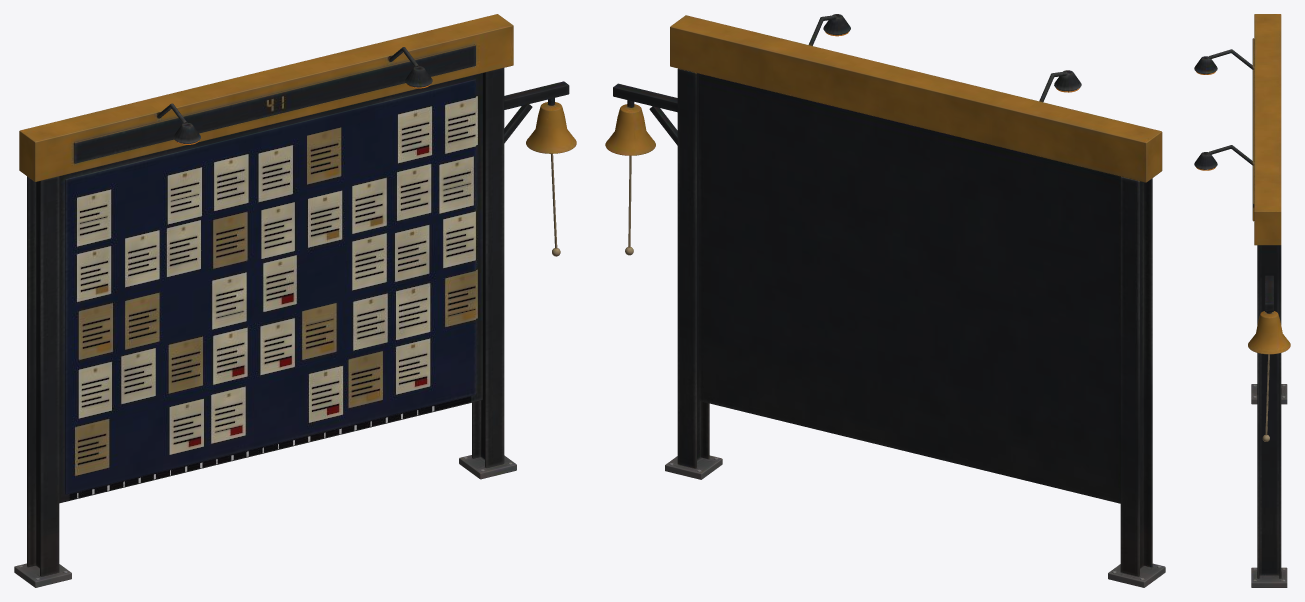
Rendered from exchange_board.glb.
3 views of the same model, side by side, from view 1: azimuth 30°, elevation 25°; view 2: azimuth 150°, elevation 25°; view 3: azimuth 270°, elevation 25° (orthographic). The views are drawn at different scales.
Visible parts, largest first — view 1: exchange_board; view 2: exchange_board; view 3: exchange_board.
Part boxes in pixels (x1,y1,x2,y2): exchange_board: (14, 14, 576, 587); exchange_board: (605, 14, 1165, 587); exchange_board: (1194, 14, 1290, 587).
Size of the model in its own units: 3.55 by 2.86 by 0.6403.
1 material, 1 textured.
